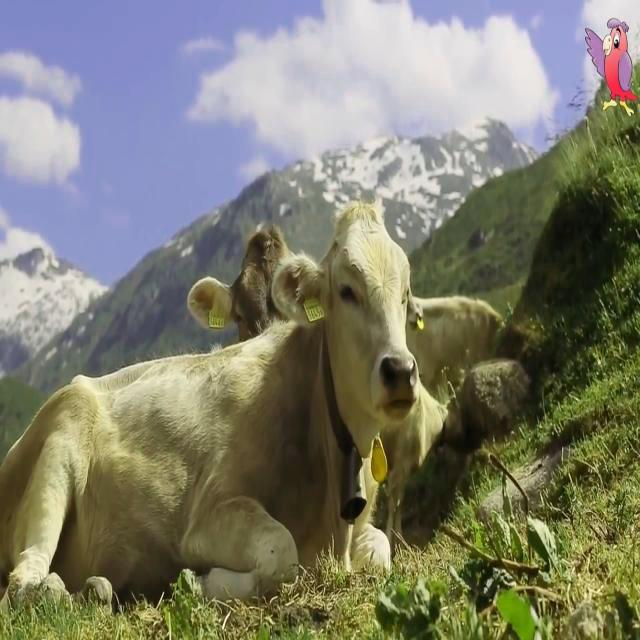cow: (0, 204, 420, 602)
